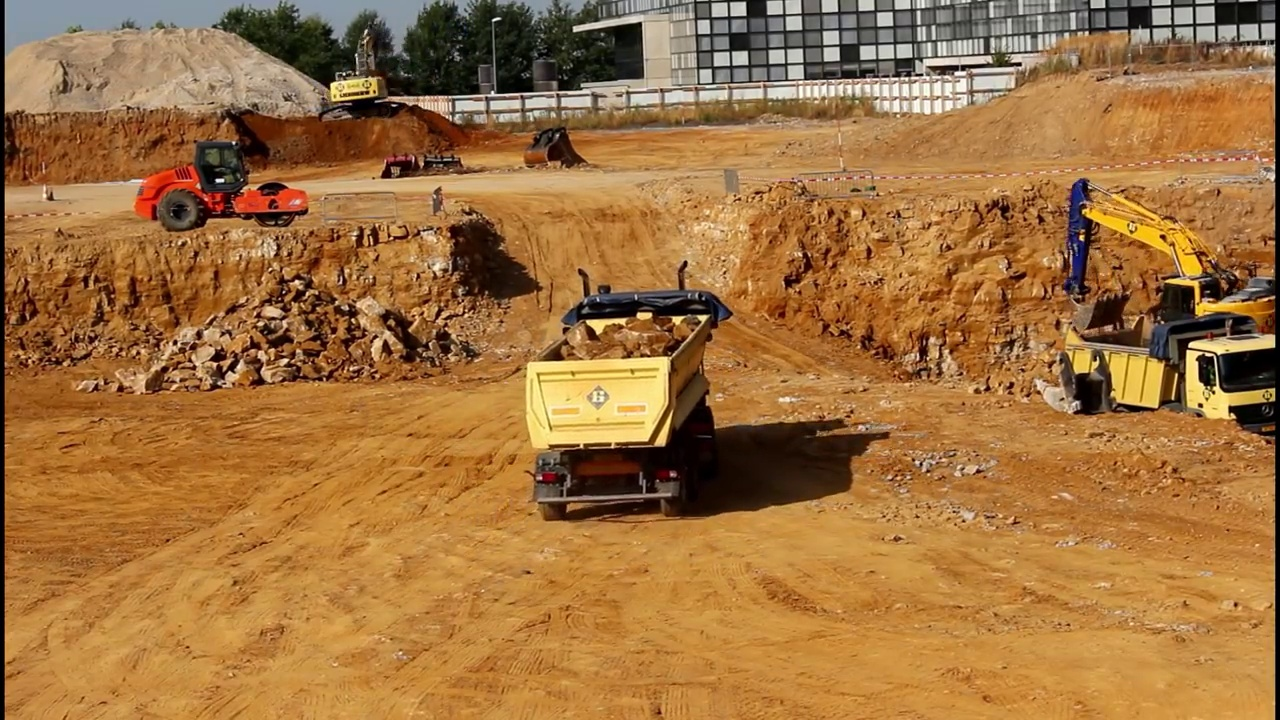compactor: (134, 138, 312, 231)
excavator: (1054, 176, 1280, 390), (323, 23, 415, 127)
truck: (523, 257, 737, 521), (1064, 313, 1280, 460)
